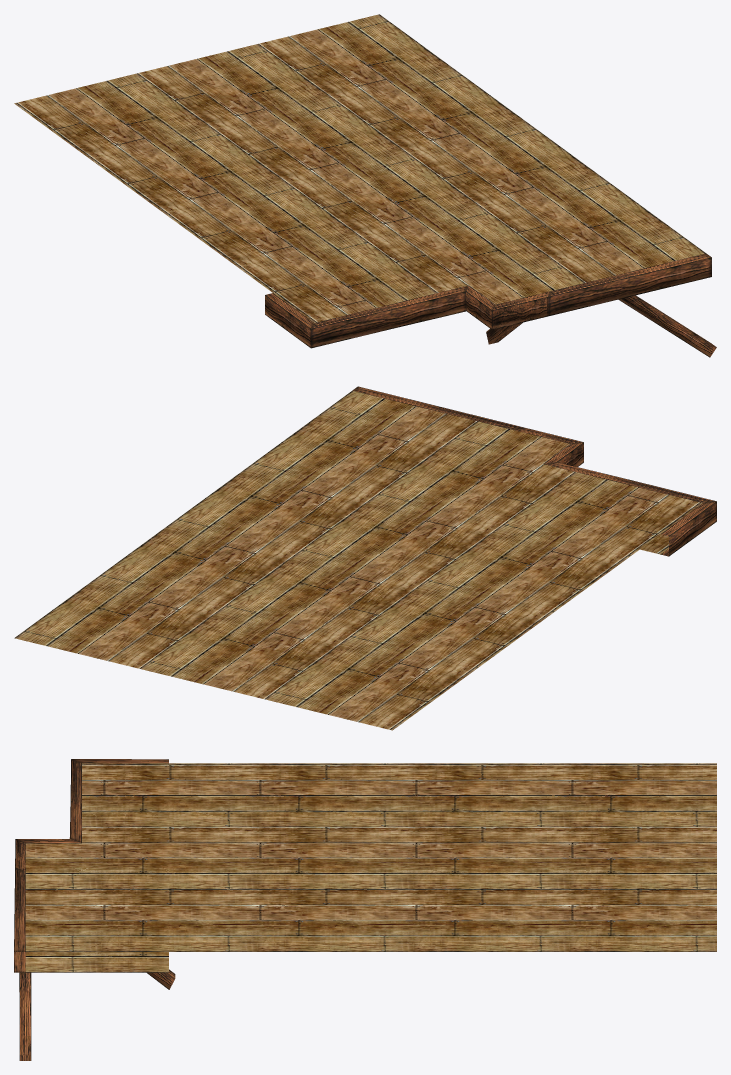
File: LAKETOWN_WAREHOUSE3_PS_WH3_PLATFORM484847__GX.fbx
3 views of the same model, one above another, from view 1: azimuth 30°, elevation 25°; view 2: azimuth 150°, elevation 25°; view 3: azimuth 270°, elevation 25° (orthographic). The views are drawn at different scales.
Parts seen in each view (by area): view 1: LAKETOWN_WAREHOUSE3_PS_WH3_PLATFORM484847__GX; view 2: LAKETOWN_WAREHOUSE3_PS_WH3_PLATFORM484847__GX; view 3: LAKETOWN_WAREHOUSE3_PS_WH3_PLATFORM484847__GX.
Boxes of the visible parts, x1,y1,x2,y2 form: LAKETOWN_WAREHOUSE3_PS_WH3_PLATFORM484847__GX: [14, 14, 716, 357]; LAKETOWN_WAREHOUSE3_PS_WH3_PLATFORM484847__GX: [14, 386, 716, 730]; LAKETOWN_WAREHOUSE3_PS_WH3_PLATFORM484847__GX: [14, 759, 716, 1060].
Bounding box in the file's own units: 69906 × 18284 × 105445.
2 materials, 2 textured.
